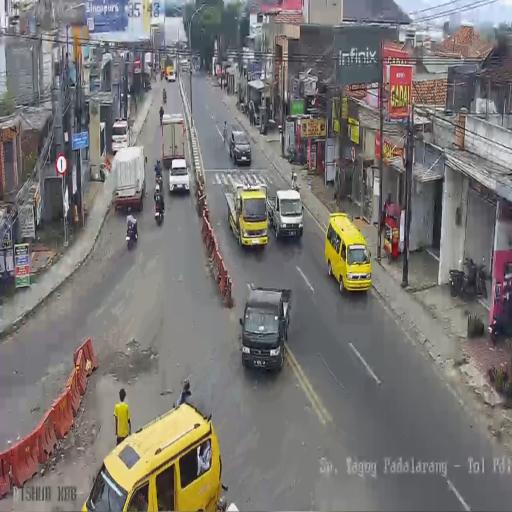car: (78, 398, 223, 510), (238, 287, 289, 371), (325, 212, 372, 291), (266, 189, 302, 240), (229, 128, 252, 165), (168, 158, 190, 195), (111, 118, 130, 154), (180, 60, 190, 74), (167, 69, 176, 82)
motorcycle: (154, 189, 164, 223), (126, 220, 138, 247), (154, 171, 163, 195)
truck: (226, 180, 268, 248), (112, 145, 146, 213), (161, 112, 186, 168), (142, 51, 152, 86)
